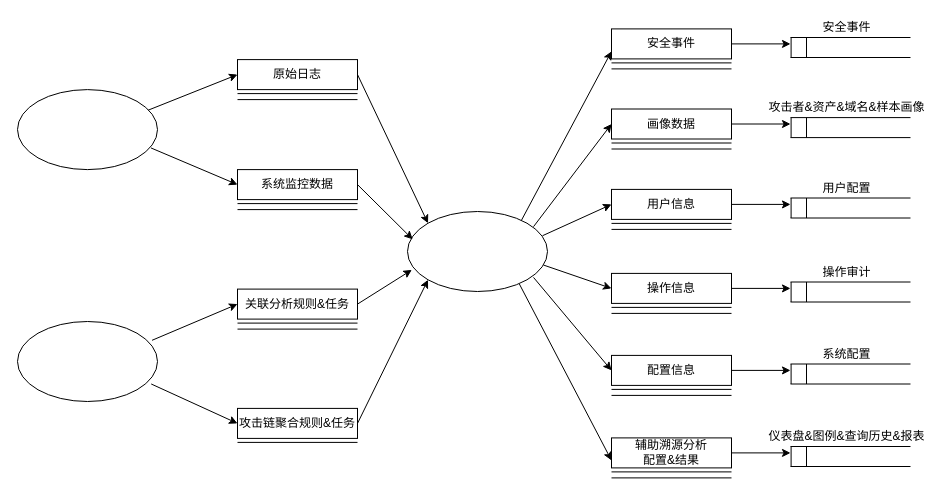
Some shapes in this 949 by 496 pixel diagram are drawn without their labels. Here are the shapes that lost their labels. From the top down, the centre of each, then its label:
At (87,129): "数据接入中心".
At (477,251): "追踪溯源中心".
At (87,361): "检测分析中心".
